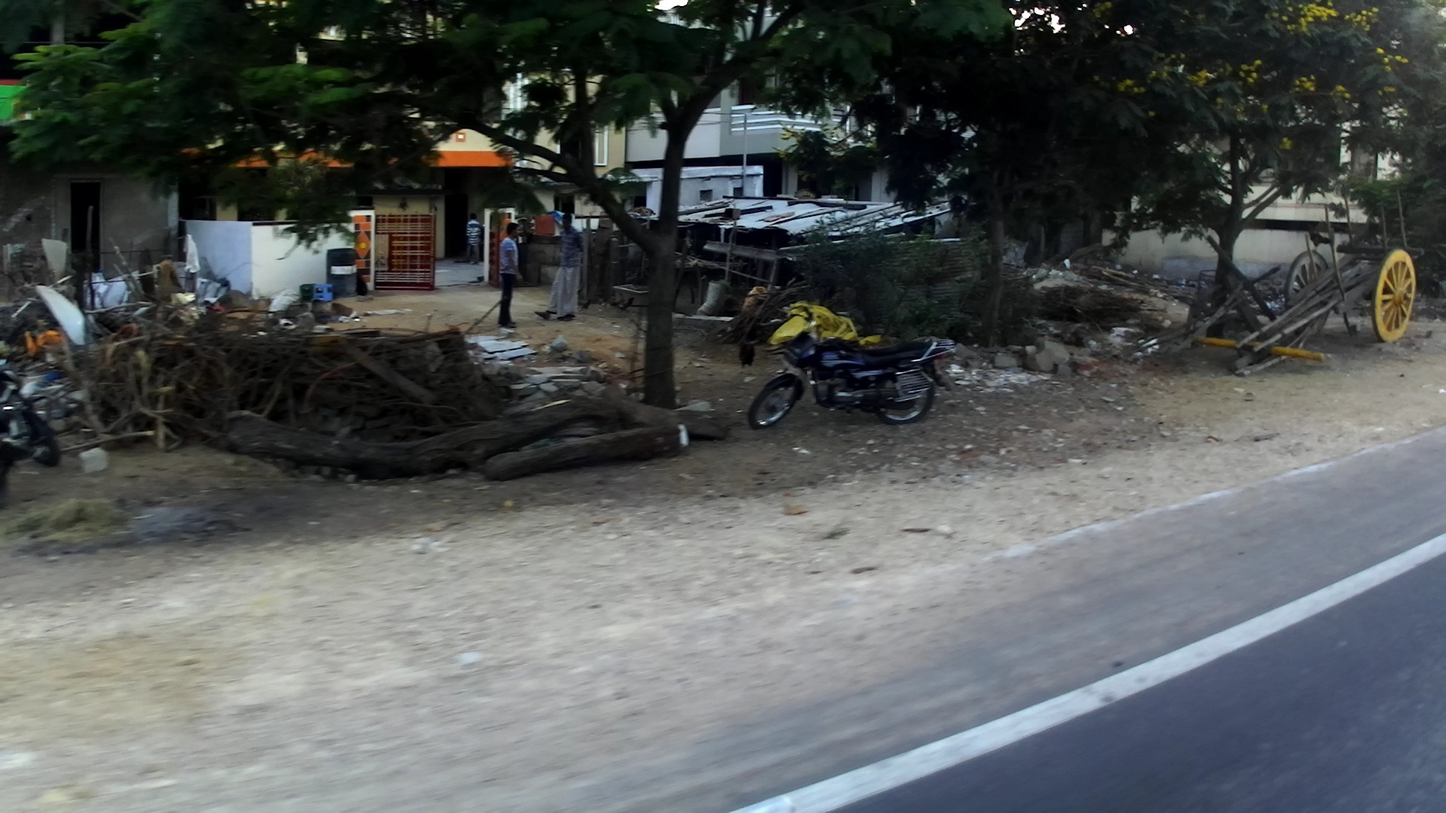motorcycle: (746, 303, 958, 435), (4, 343, 65, 502)
person: (535, 209, 585, 327), (494, 221, 523, 335), (464, 213, 483, 265)
vehicle fallback: (1165, 185, 1422, 375)
